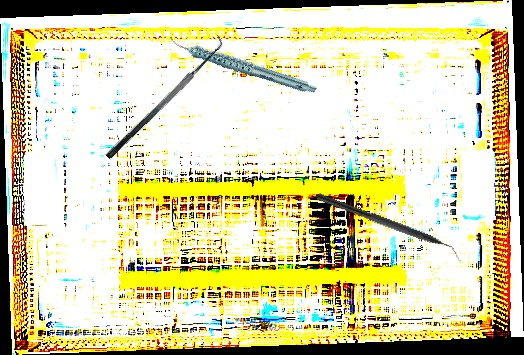Chopper: (311, 192, 468, 264)
Handpiece: (167, 7, 318, 122)
Spatula Surgical: (95, 32, 231, 161)
